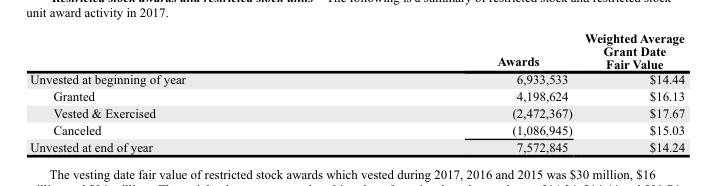table: (29, 28, 684, 154)
table column: (29, 28, 340, 154), (340, 28, 577, 154), (577, 28, 684, 154)
table column header: (29, 28, 684, 71)
table row: (29, 28, 684, 71), (29, 87, 684, 104), (29, 120, 684, 137), (29, 137, 684, 154), (29, 71, 684, 87), (29, 104, 684, 120)
